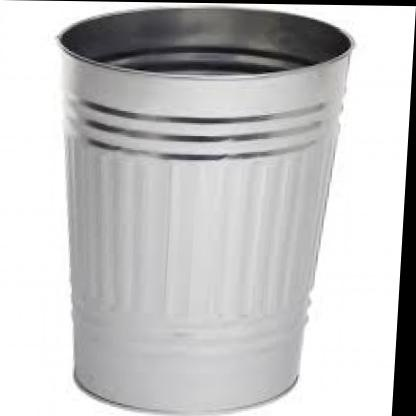trash: (59, 8, 351, 411)
